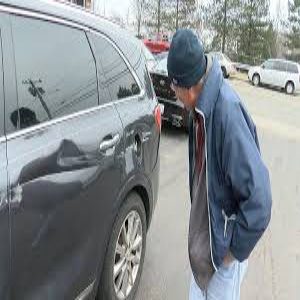door_scratch: (10, 137, 108, 212)
